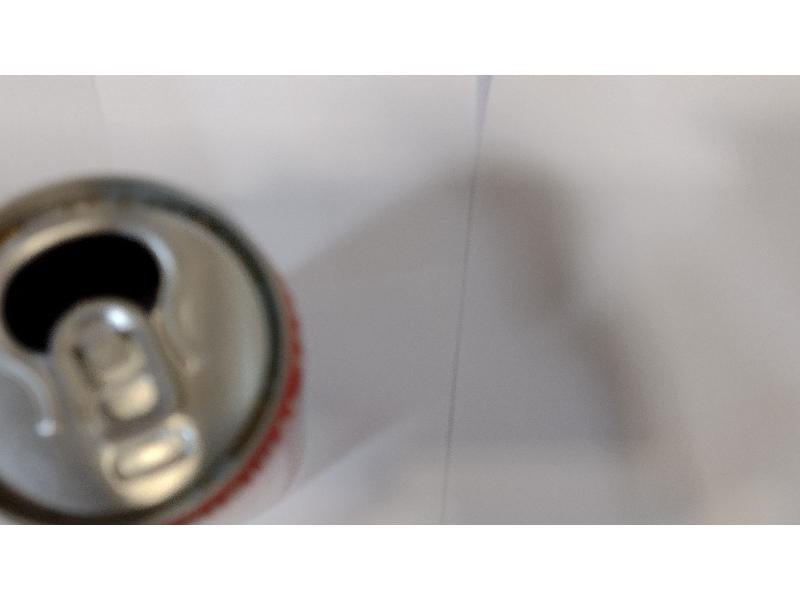can: (0, 168, 286, 520)
